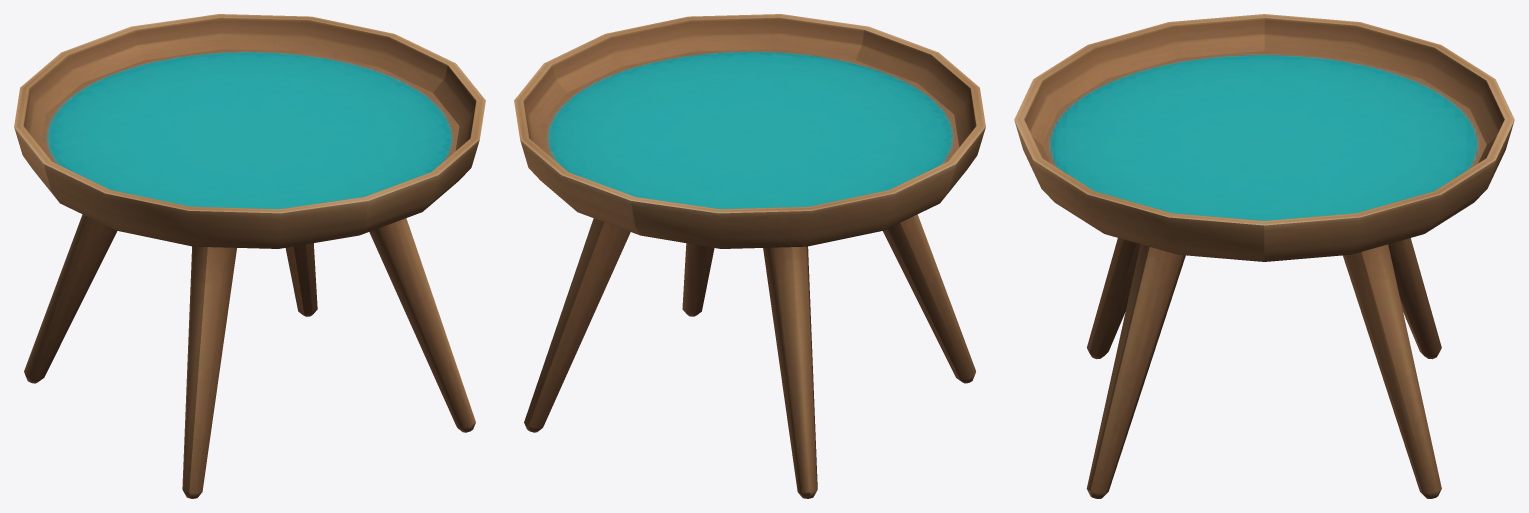
Rendered from 圆形咖啡桌.glb.
3 views of the same model, side by side, from view 1: azimuth 30°, elevation 25°; view 2: azimuth 150°, elevation 25°; view 3: azimuth 270°, elevation 25° (orthographic). The views are drawn at different scales.
Visible parts, largest first — view 1: TinyLiving_SirCumferenceCoffeeTable_11; view 2: TinyLiving_SirCumferenceCoffeeTable_11; view 3: TinyLiving_SirCumferenceCoffeeTable_11.
Part boxes in pixels (x1,y1,x2,y2): TinyLiving_SirCumferenceCoffeeTable_11: [14, 14, 485, 498]; TinyLiving_SirCumferenceCoffeeTable_11: [514, 14, 985, 498]; TinyLiving_SirCumferenceCoffeeTable_11: [1014, 14, 1514, 498].
Size of the model in its own units: 0.7306 by 0.4968 by 0.7306.
Materials: 1 (1 with a texture image).
